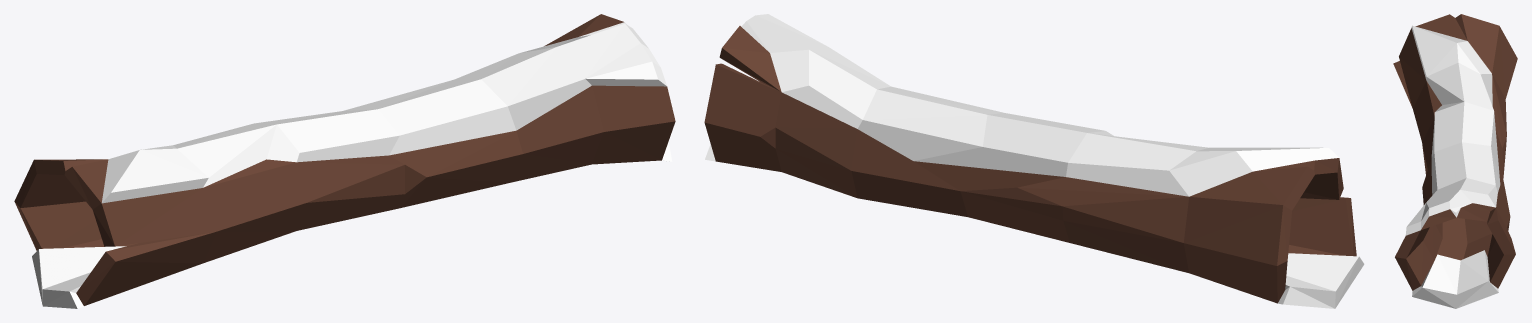
File: Tree_Trunk_2_Snow.fbx
3 views of the same model, side by side, from view 1: azimuth 30°, elevation 25°; view 2: azimuth 150°, elevation 25°; view 3: azimuth 270°, elevation 25° (orthographic). The views are drawn at different scales.
Parts seen in each view (by area): view 1: Tree_Trunk_2_Snow; view 2: Tree_Trunk_2_Snow; view 3: Tree_Trunk_2_Snow.
Part boxes in pixels (box(x1,y1,x2,y2)): Tree_Trunk_2_Snow: box(14, 14, 675, 308); Tree_Trunk_2_Snow: box(704, 14, 1364, 308); Tree_Trunk_2_Snow: box(1393, 14, 1517, 308).
Size of the model in its own units: 3.2 by 0.7385 by 0.8022.
